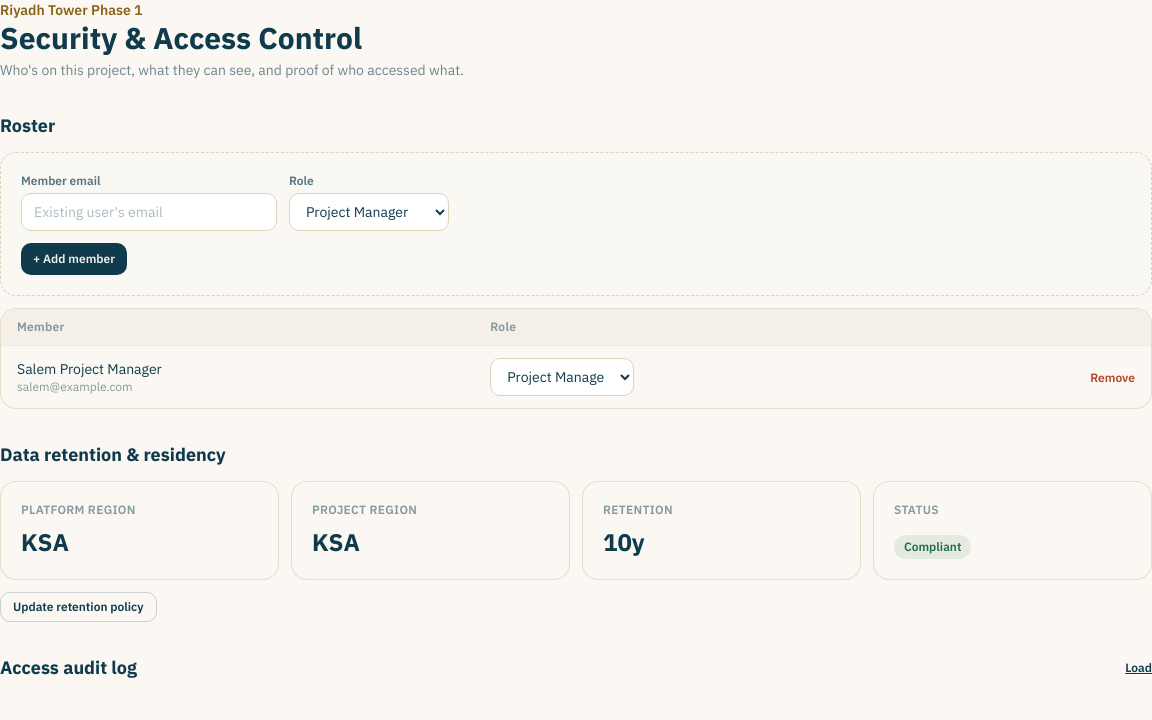
Test: AccessControlPage › loads the audit log on demand into a sortable table
Click the button "Load" at [1139, 668], box x1=1125 y1=660 x2=1151 y2=676
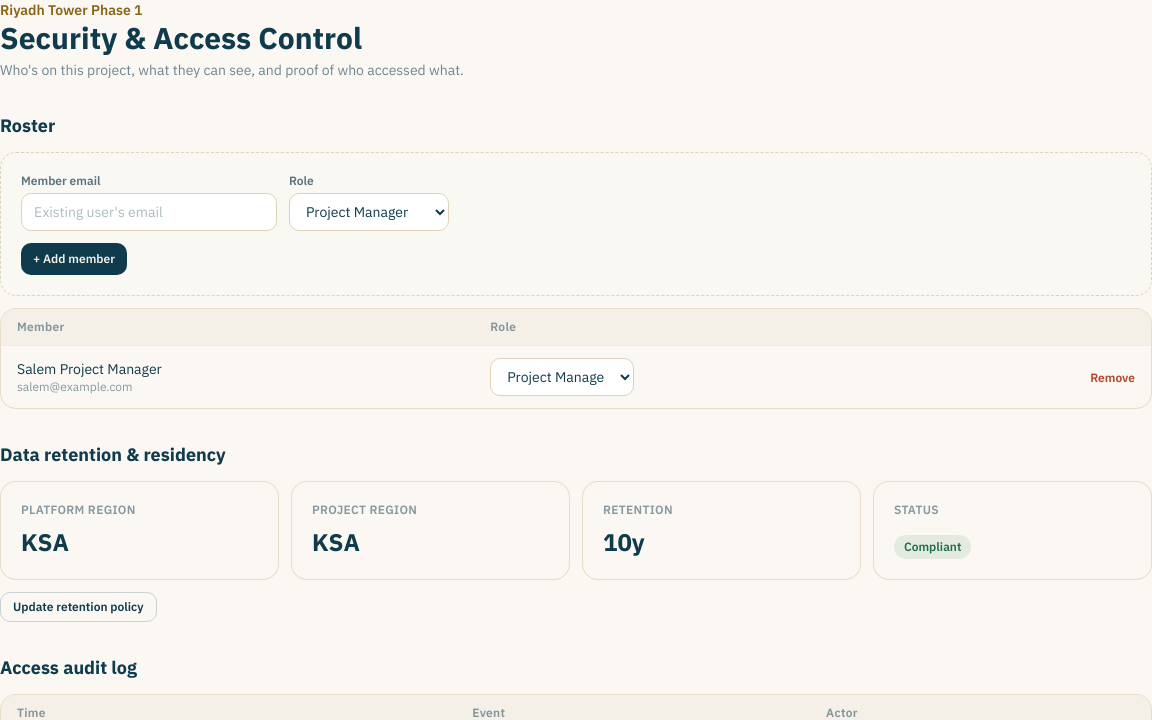
Now the button with aria-label "Sort by Time" is shown, box x1=17 y1=705 x2=46 y2=719
